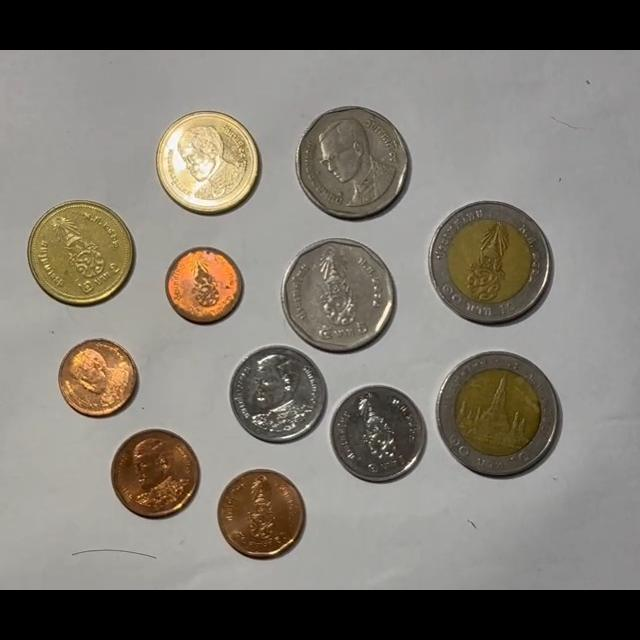1-baht: (229, 346, 326, 444), (330, 384, 427, 482)
10-baht: (436, 351, 561, 477), (427, 201, 552, 324)
2-baht: (28, 201, 134, 306), (156, 111, 261, 215)
25-satang: (59, 339, 138, 418), (165, 247, 244, 324)
5-baht: (295, 106, 411, 220), (281, 238, 396, 352)
50-satang: (217, 469, 306, 558), (111, 429, 199, 517)
